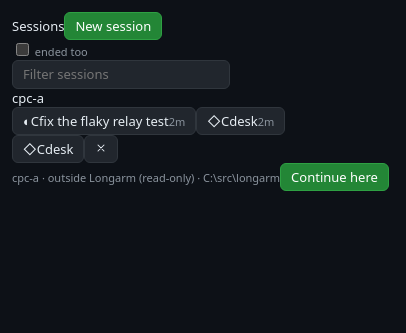
Test: SessionsApp › shows an agent outside Longarm read-only, with Continue here (a fork of the live session)
Click the button with test id "continue-here". click: (334, 177)
box: x1=280 y1=163 x2=389 y2=191
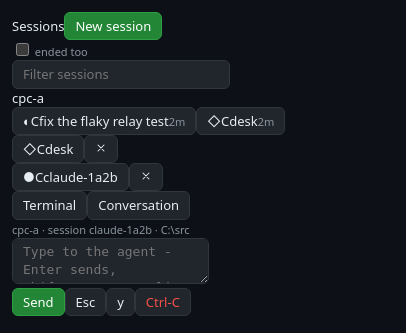
Result: the element with test id "tab-cpc-a/session/claude-1a2b" is shown at x1=12 y1=163 x2=163 y2=191
